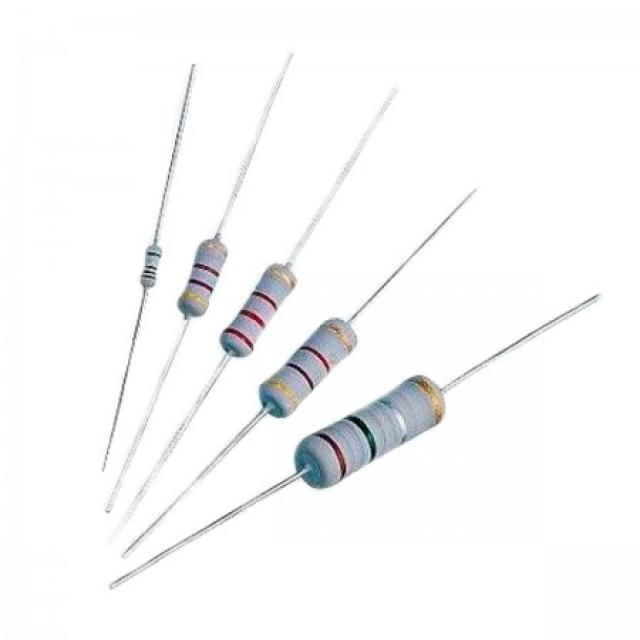Resistor: (298, 375, 445, 488), (261, 317, 357, 418), (222, 263, 297, 357), (178, 236, 228, 320), (141, 244, 162, 289)
